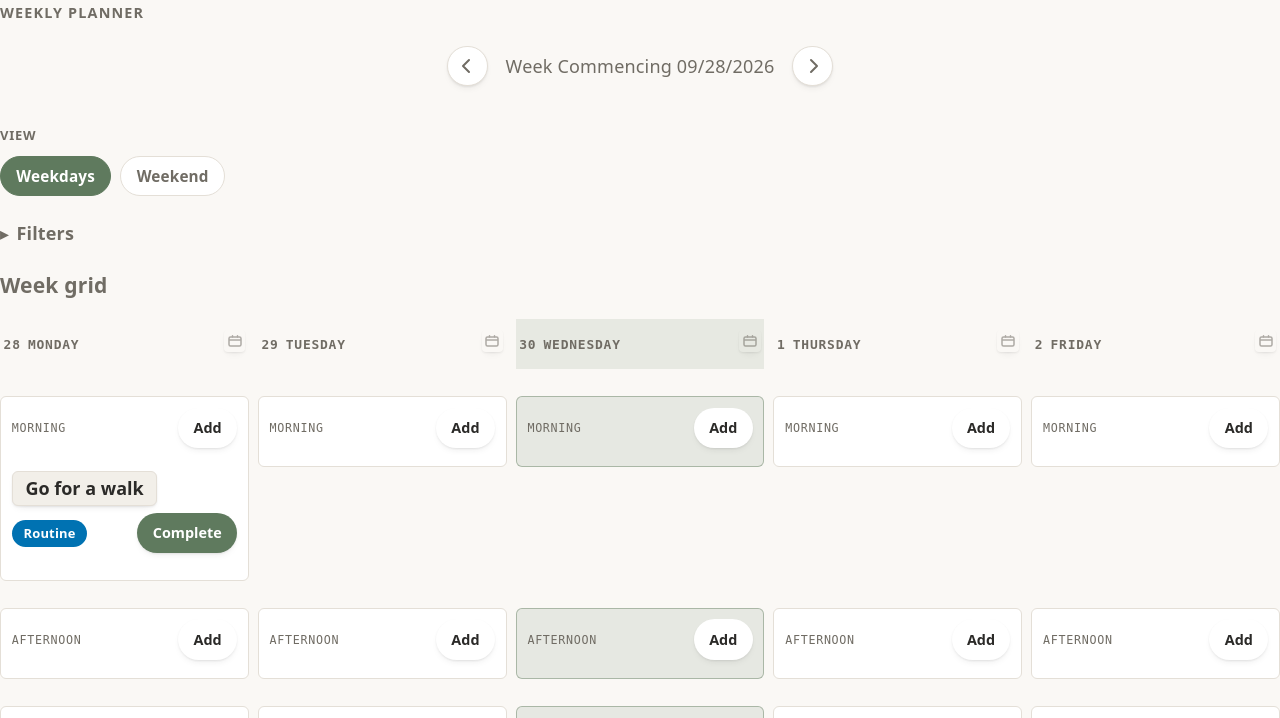
WeeklyPlanner › FRONTEND-004-AC-40: move/remove/complete/undo/carry-forward failure shows an alert, non-optimistic › keeps the occurrence in place when planApi.remove rejects
Click the button "Go for a walk".
click(85, 488)  # box left=12, top=470, right=157, bottom=506
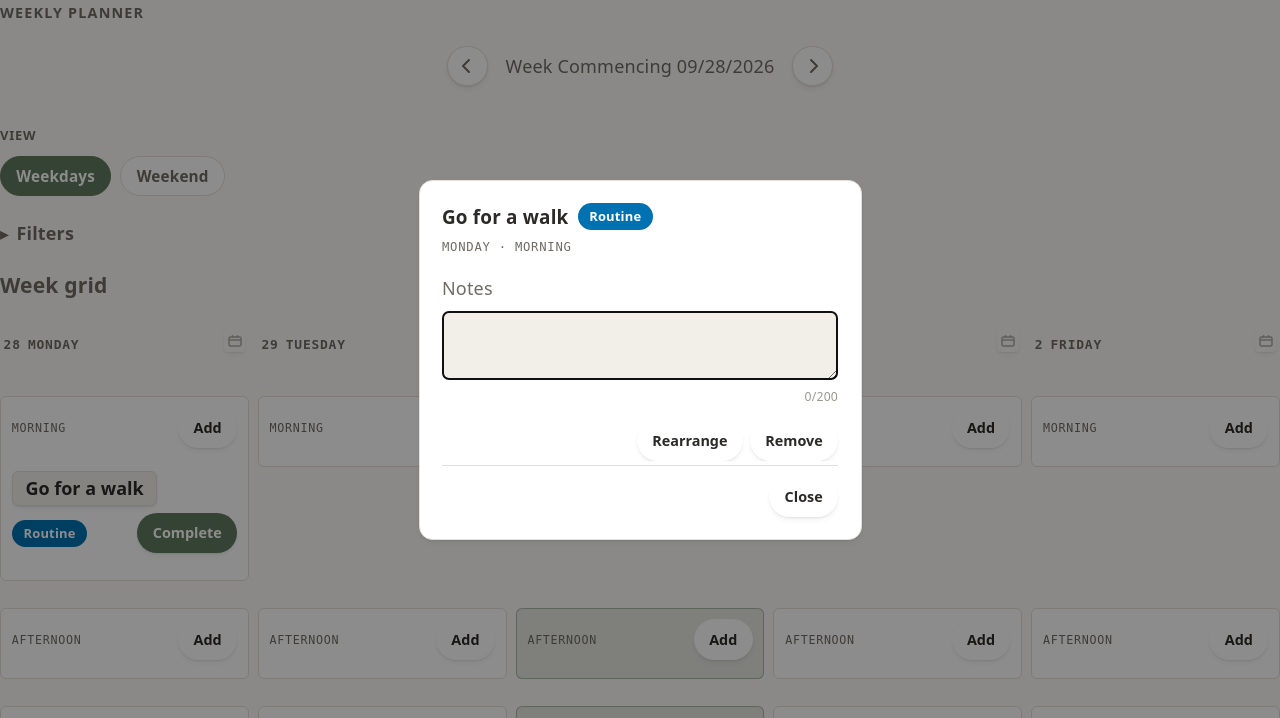
Click the button "Remove".
click(794, 441)  # box left=750, top=420, right=838, bottom=461
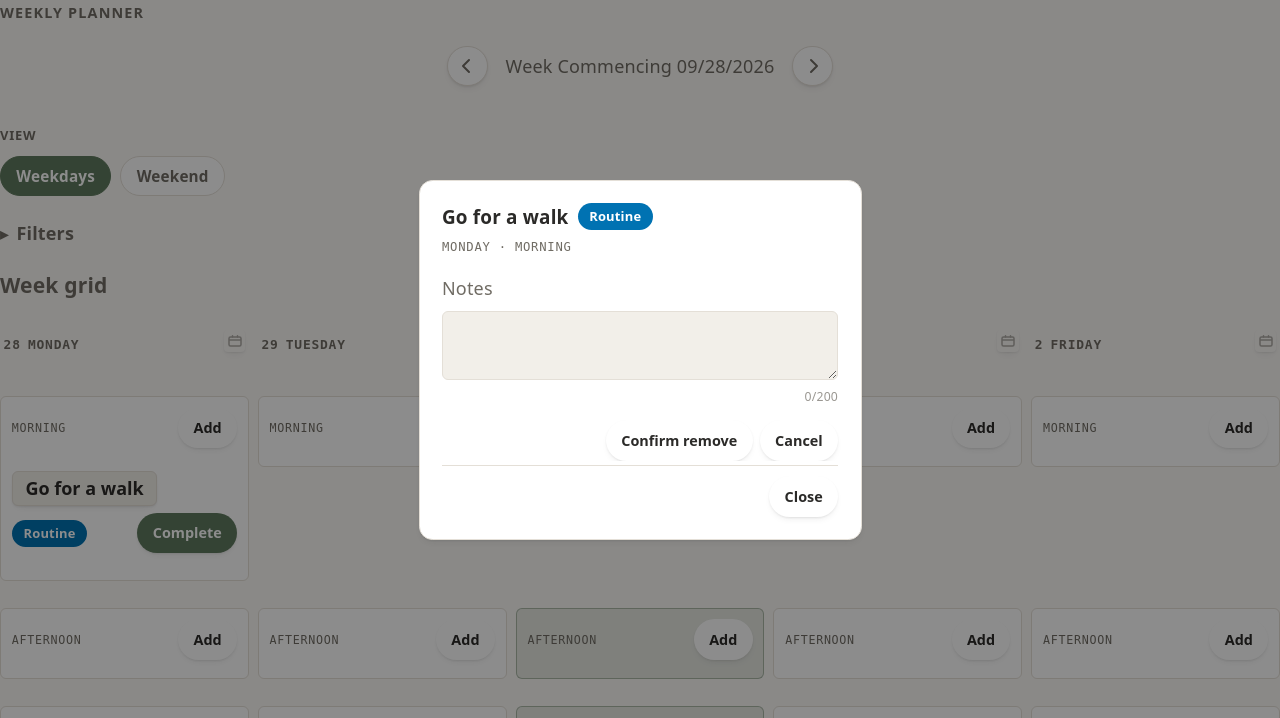
Click the button "Confirm remove".
click(679, 441)  # box left=606, top=420, right=753, bottom=461
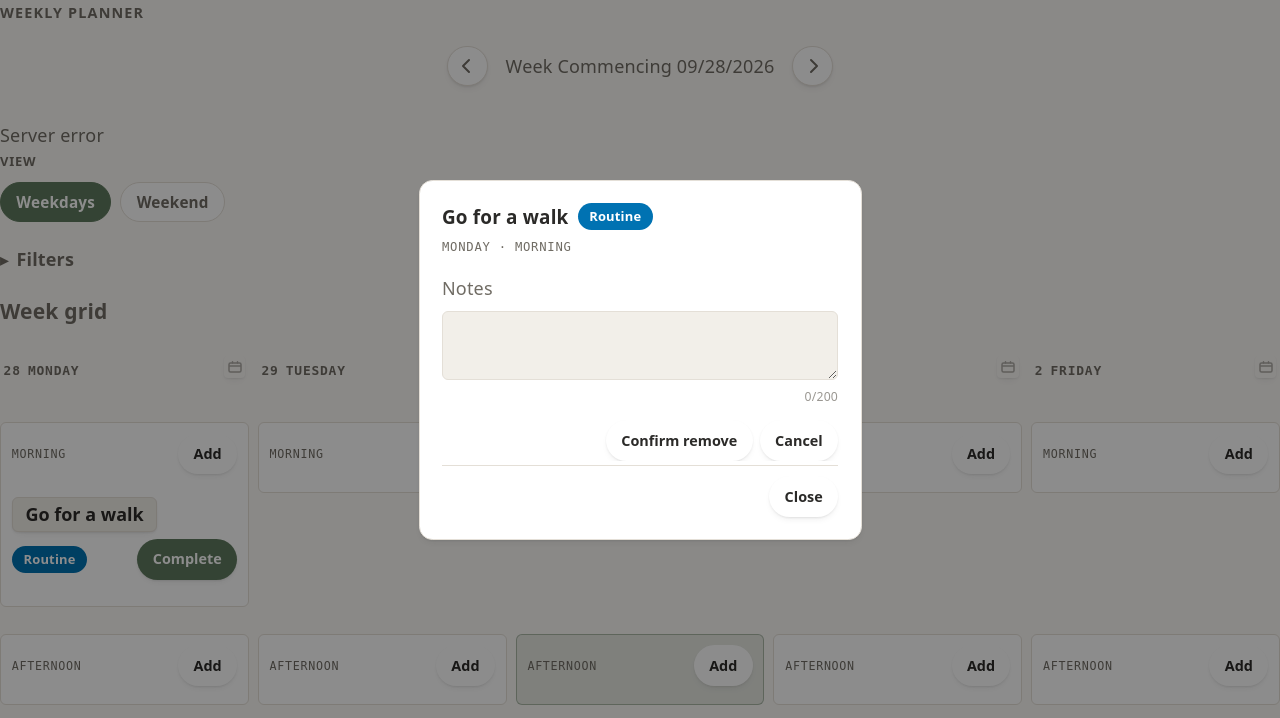
Expected: the button "Go for a walk" is shown, left=12, top=497, right=157, bottom=532
Expected: the message reads "Server error", left=0, top=123, right=104, bottom=147
